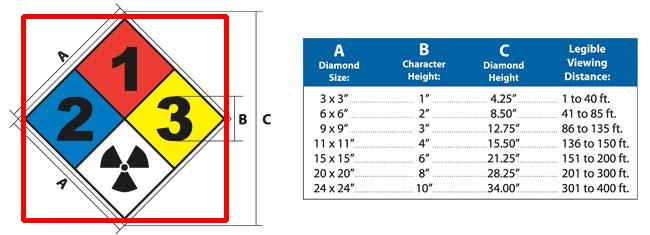nfpa: (23, 16, 226, 220)
